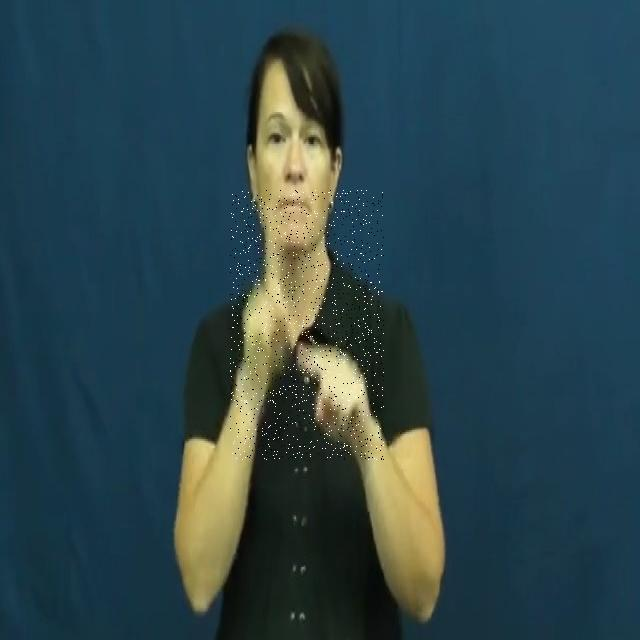tomato: (230, 190, 384, 460)
